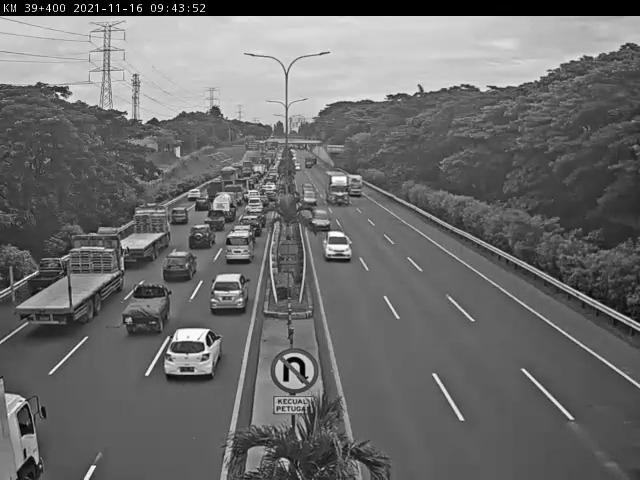car: (165, 328, 219, 379), (123, 284, 174, 334), (210, 276, 249, 313), (322, 230, 353, 263), (162, 252, 195, 282), (223, 233, 252, 263), (188, 224, 215, 251), (309, 211, 330, 233), (170, 206, 190, 226), (205, 209, 225, 229)
truck-l-: (14, 236, 131, 327), (116, 202, 170, 262)
